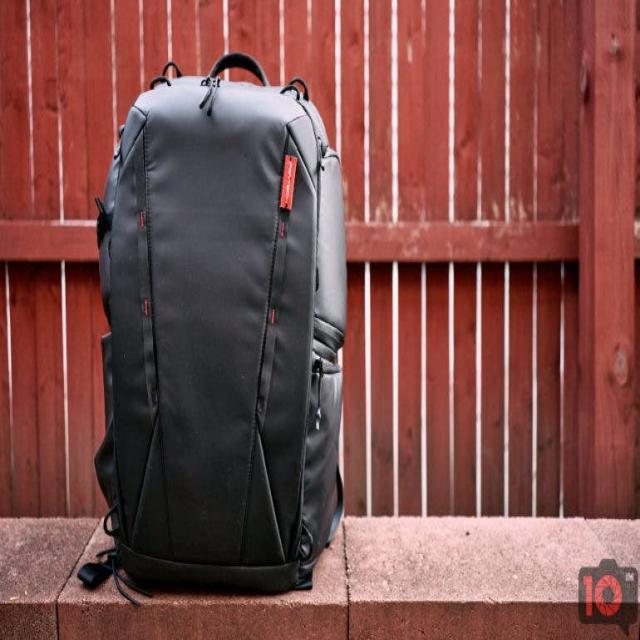Backpacks: (98, 49, 347, 594)
